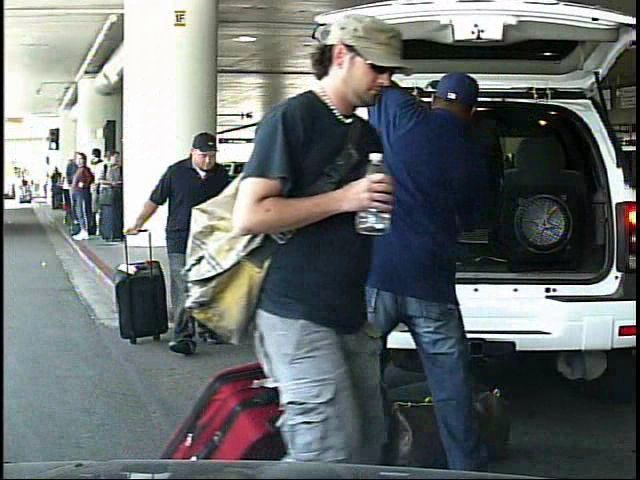person: (217, 18, 409, 480), (332, 48, 523, 477), (123, 125, 246, 358), (13, 174, 24, 205)
